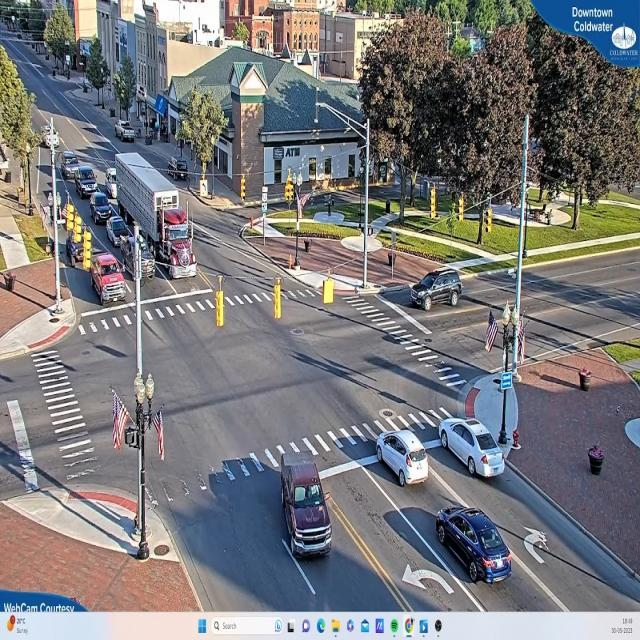car: (434, 507, 513, 587), (280, 450, 334, 559), (438, 415, 506, 478), (384, 270, 464, 313), (375, 428, 431, 486), (88, 252, 127, 303), (122, 234, 155, 284), (66, 220, 94, 271), (106, 217, 132, 246), (90, 194, 113, 223), (77, 164, 97, 194), (116, 123, 138, 143)
truck: (155, 193, 198, 281)
